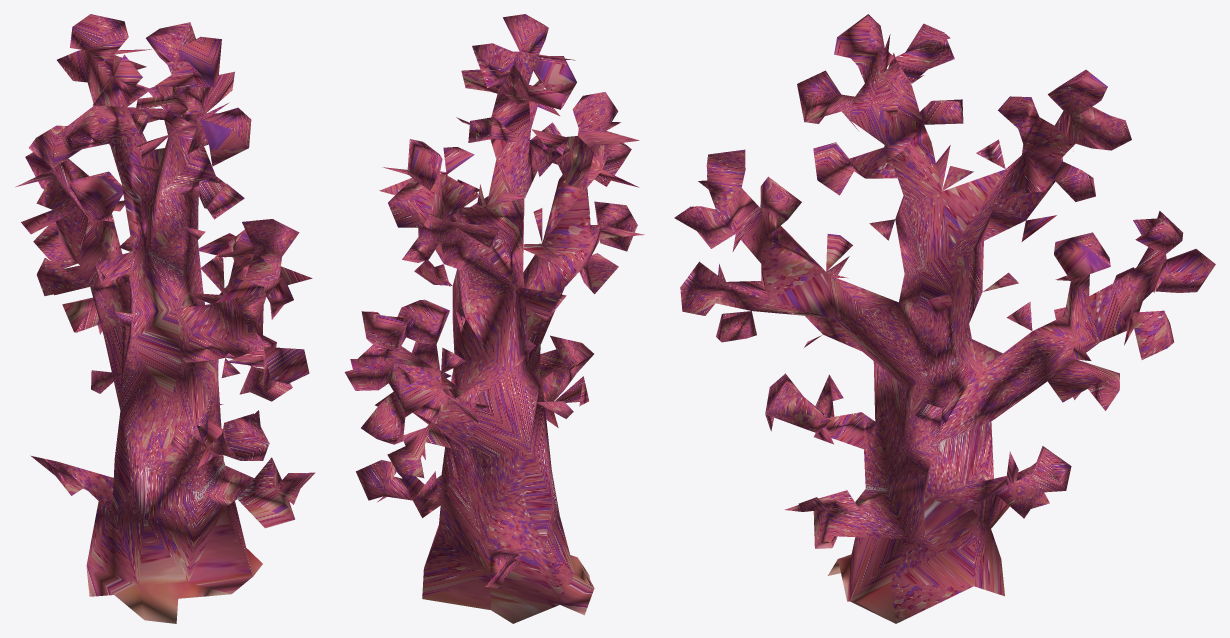
The model's file is zachtkoraal-lo.glb.
3 views of the same model, side by side, from view 1: azimuth 30°, elevation 25°; view 2: azimuth 150°, elevation 25°; view 3: azimuth 270°, elevation 25° (orthographic). The views are drawn at different scales.
Visible parts, largest first — view 1: tripo_node_cb393d2c-a083-4d9b-96da-ba5ef20e2f06; view 2: tripo_node_cb393d2c-a083-4d9b-96da-ba5ef20e2f06; view 3: tripo_node_cb393d2c-a083-4d9b-96da-ba5ef20e2f06.
Part boxes in pixels (<box>): tripo_node_cb393d2c-a083-4d9b-96da-ba5ef20e2f06: <box>15,14,315,623</box>; tripo_node_cb393d2c-a083-4d9b-96da-ba5ef20e2f06: <box>344,14,644,623</box>; tripo_node_cb393d2c-a083-4d9b-96da-ba5ef20e2f06: <box>674,14,1215,623</box>.
Bounding box in the file's own units: 0.0914 × 0.2967 × 0.2497.
Materials: 1 (1 with a texture image).
